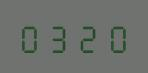three: (46, 20, 73, 53)
two: (74, 20, 101, 53)
zero: (18, 20, 45, 53), (102, 20, 129, 53)
